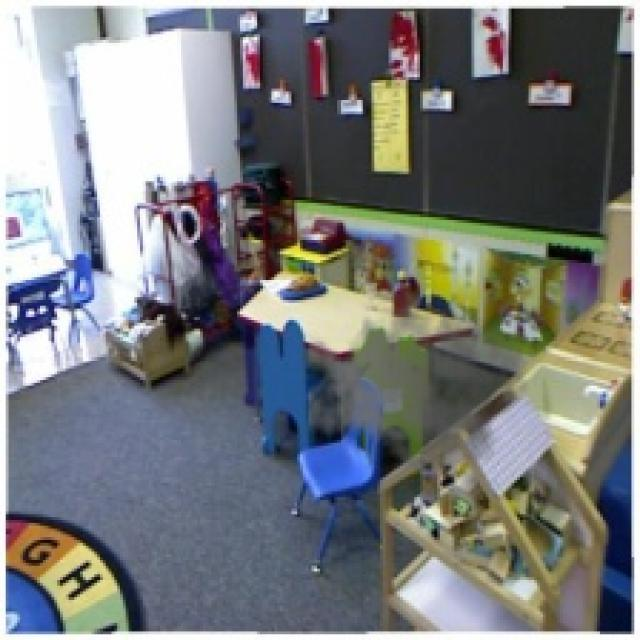Smoke: (308, 283, 528, 483)
